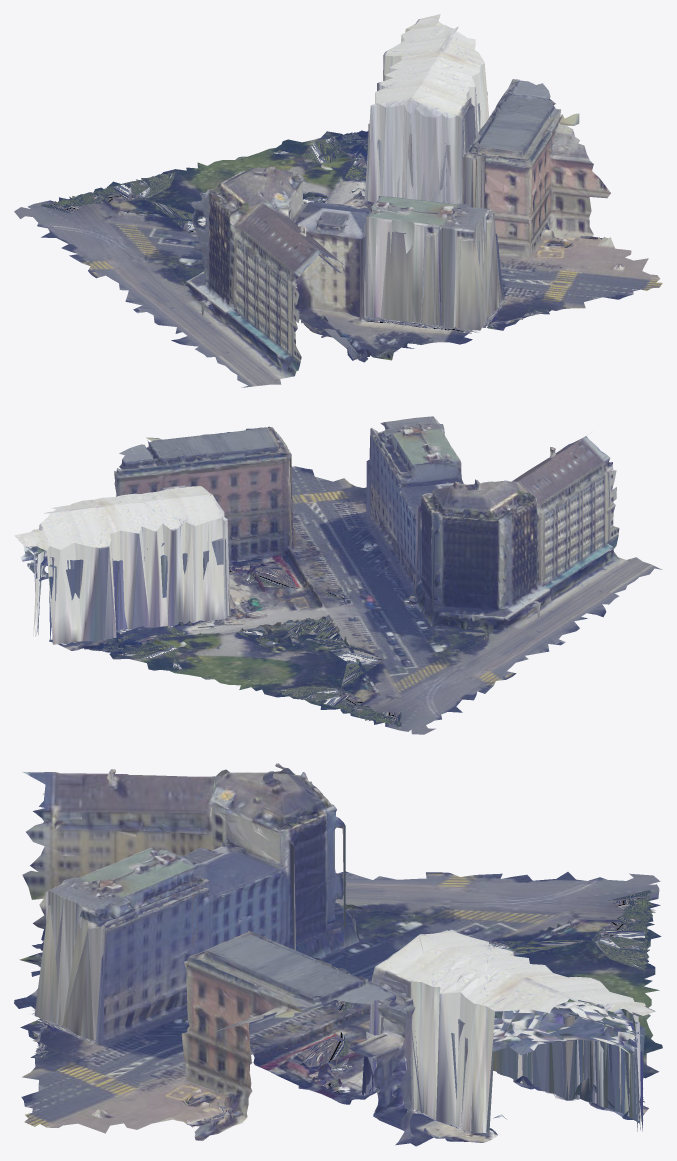
The picture shows the model from 3 angles, top to bottom: view 1: azimuth 30°, elevation 25°; view 2: azimuth 150°, elevation 25°; view 3: azimuth 270°, elevation 25°; orthographic projection. The views are drawn at different scales.
Size of the model in its own units: 109 by 31.41 by 108.
1 material, 1 textured.
